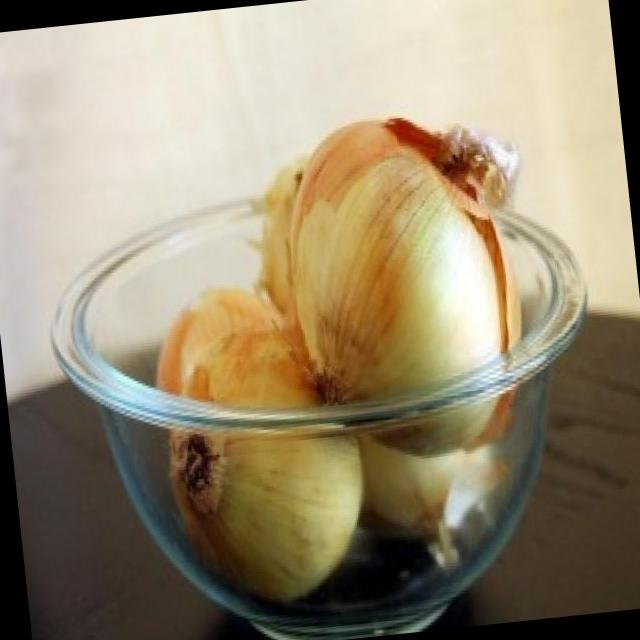Onion: (268, 89, 570, 456), (164, 321, 406, 600)
